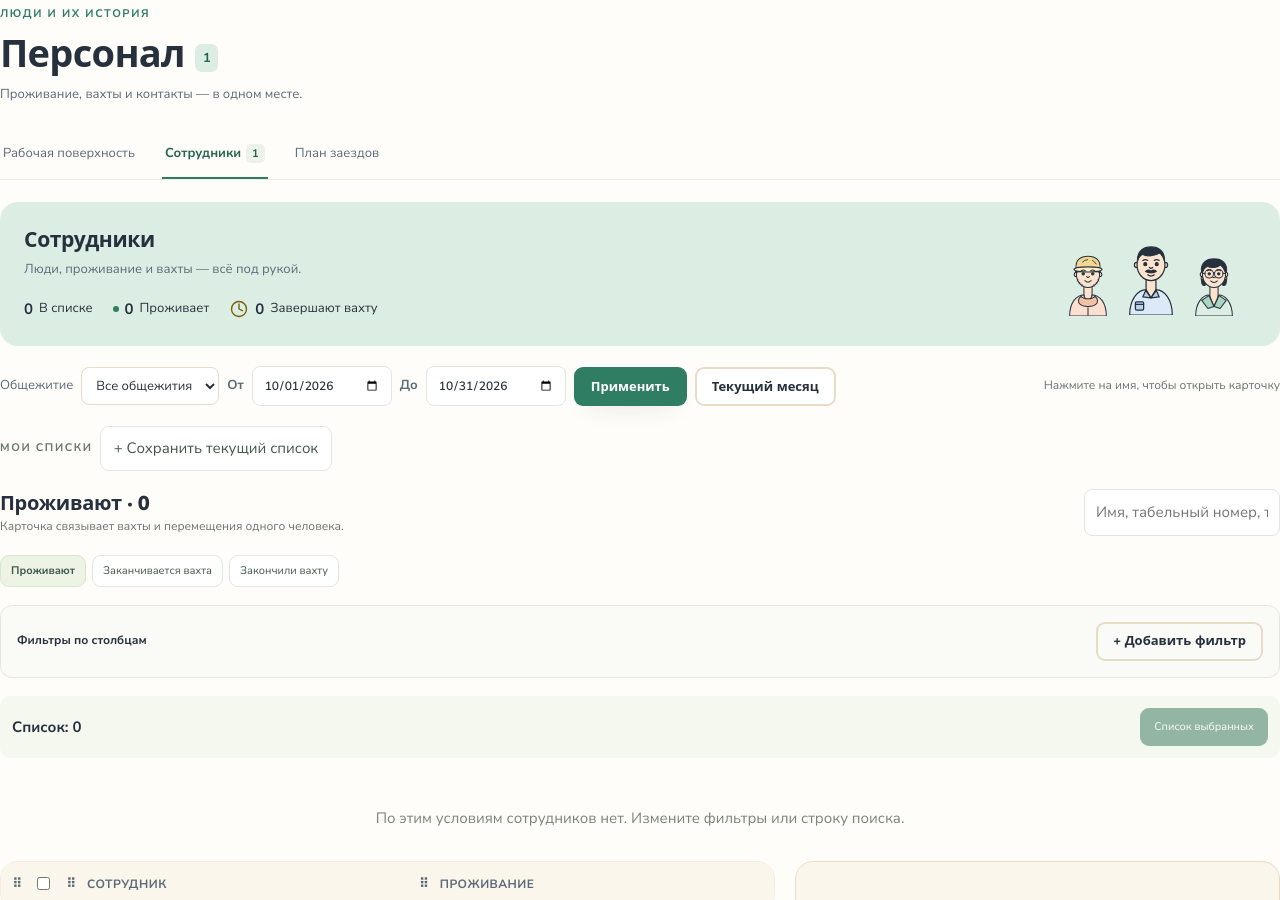
Scenario: показывает даты и примечания выселений и открывает карточку по ID
The width and height of the screenshot is (1280, 900).
Click the button "Закончили вахту" at x=284, y=571, box [229,555,339,587]
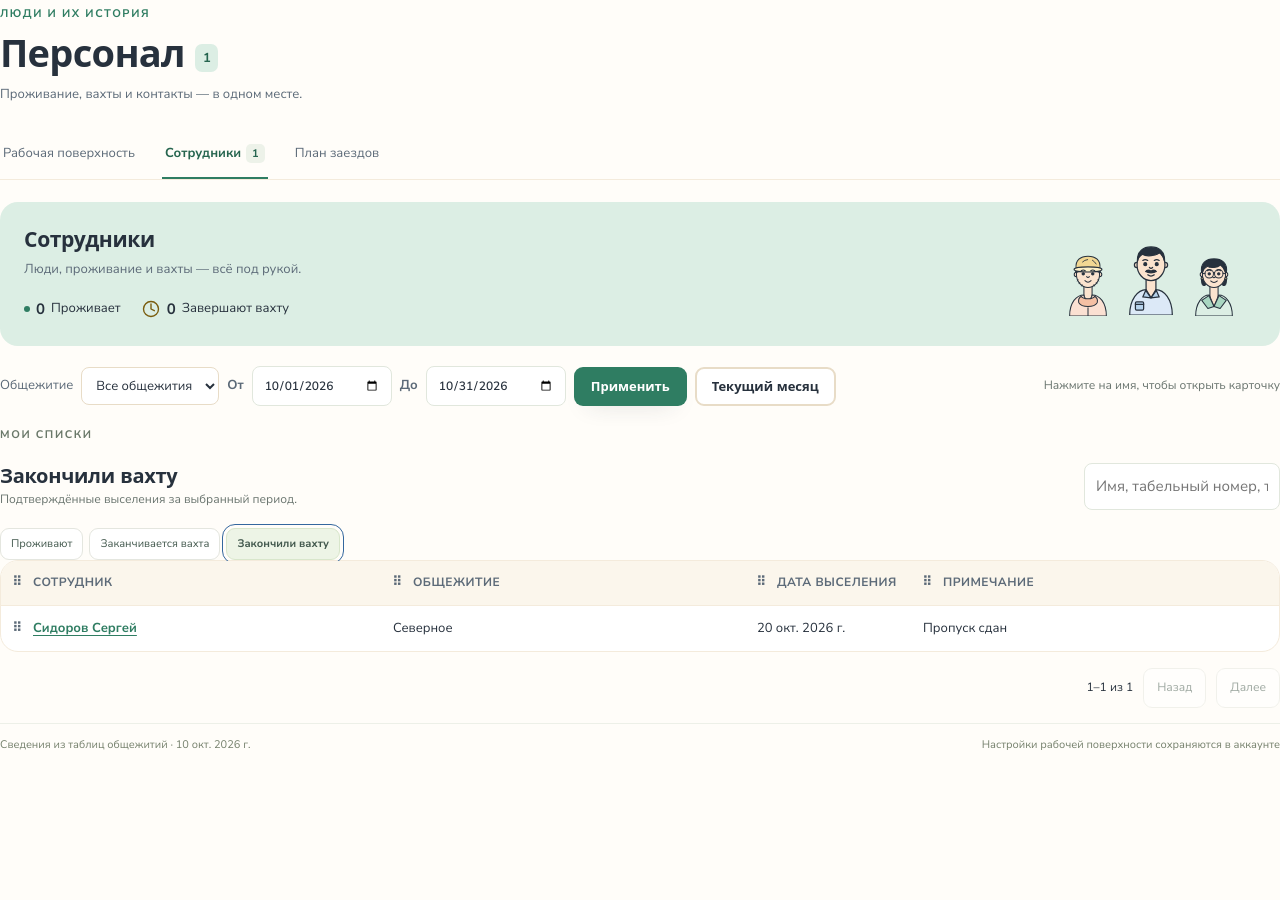
Now the column heading "Дата выселения" is shown, box [745,561,911,606]
Now the text "Пропуск сдан" is shown, box [911,606,1279,651]
Select "Северное" in the dropdown named "Общежитие на странице" at x=150, y=386, box [81,367,219,405]
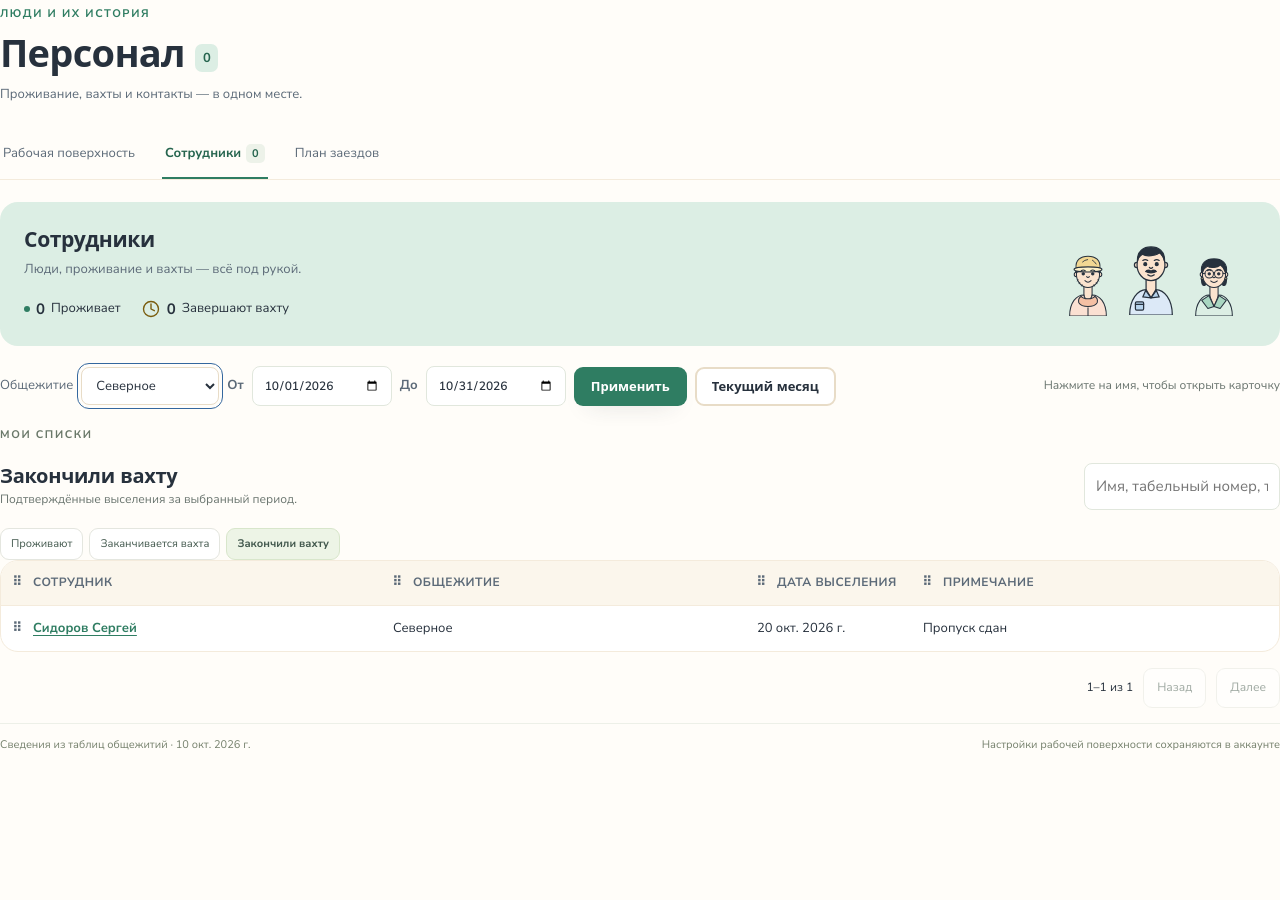
Click the button "Сидоров Сергей" at x=85, y=629, box [33,618,137,639]
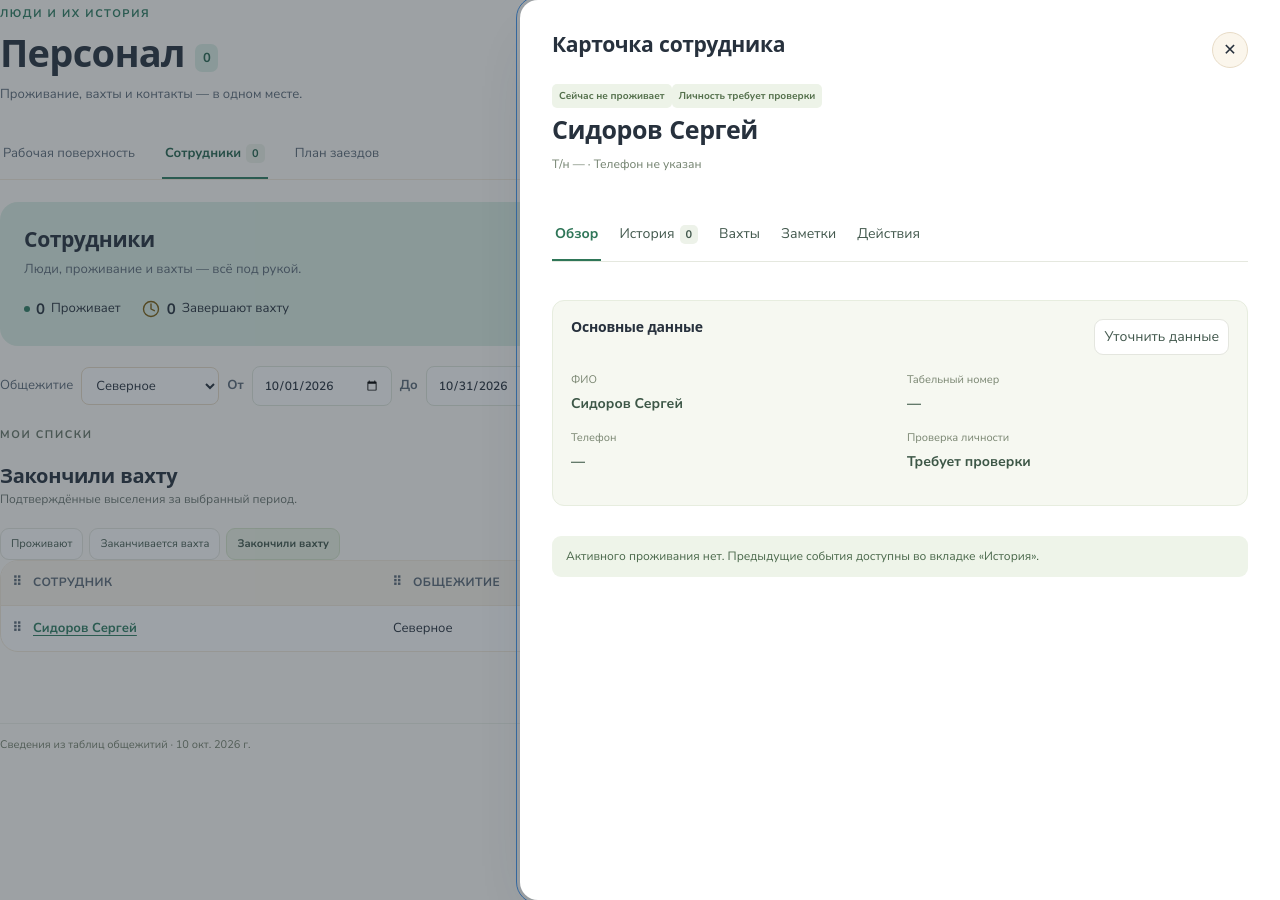
Now the heading "Сидоров Сергей" is shown, box [552,114,758,148]
